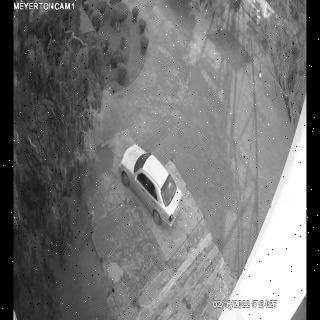car: (119, 144, 182, 225)
